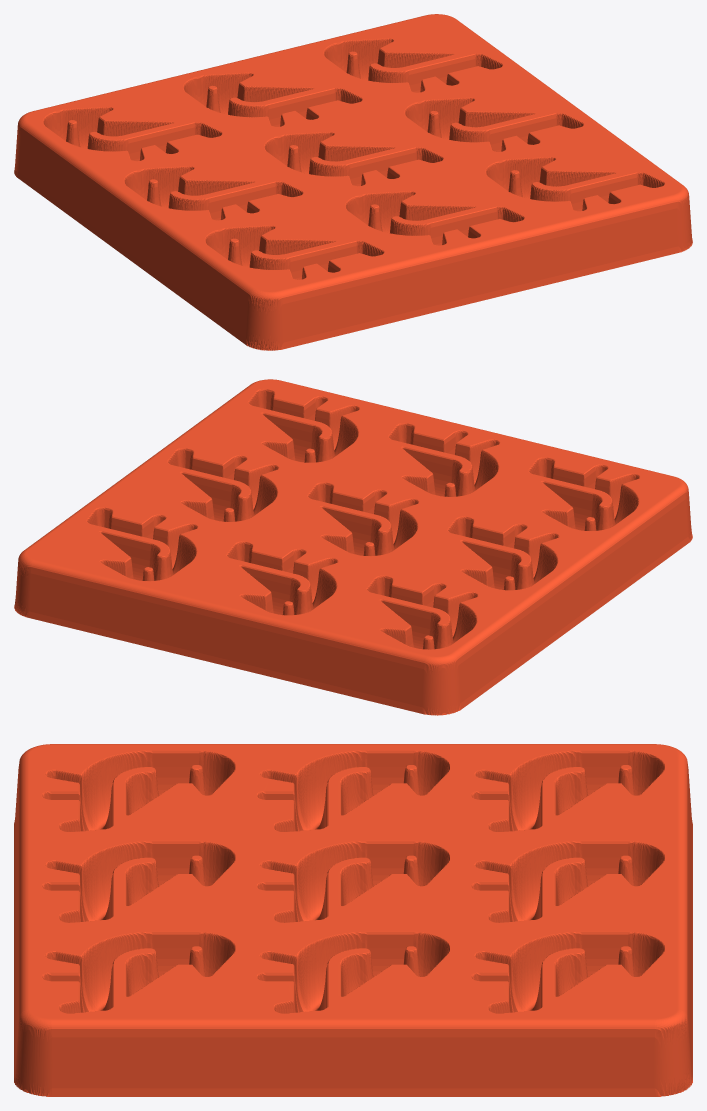
The model's file is mold.glb.
3 views of the same model, one above another, from view 1: azimuth 30°, elevation 25°; view 2: azimuth 150°, elevation 25°; view 3: azimuth 270°, elevation 25° (orthographic). The views are drawn at different scales.
Visible parts, largest first — view 1: geometry_0; view 2: geometry_0; view 3: geometry_0.
Boxes of the visible parts, <box> form: geometry_0: <box>14,14,692,350</box>; geometry_0: <box>14,379,692,715</box>; geometry_0: <box>14,744,692,1096</box>.
Size of the model in its own units: 0.1595 by 0.0185 by 0.1595.
